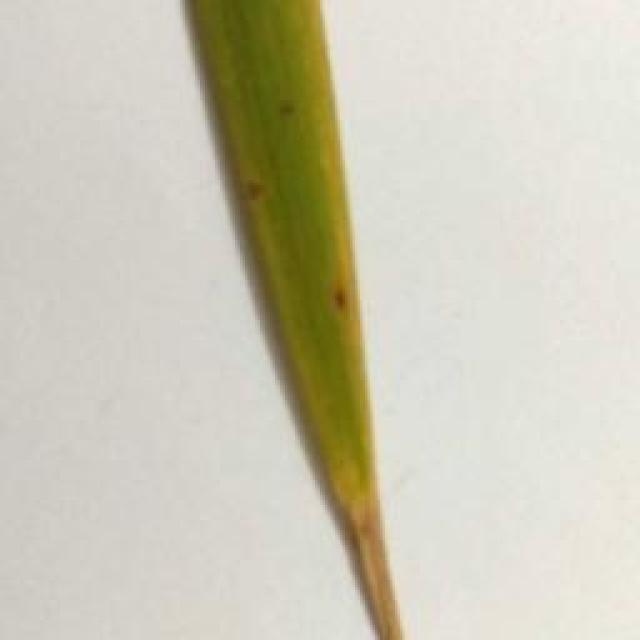Bacterial_Blight: (307, 447, 411, 640)
Brown_Spot: (325, 274, 358, 320), (235, 179, 278, 211), (276, 90, 302, 121)
